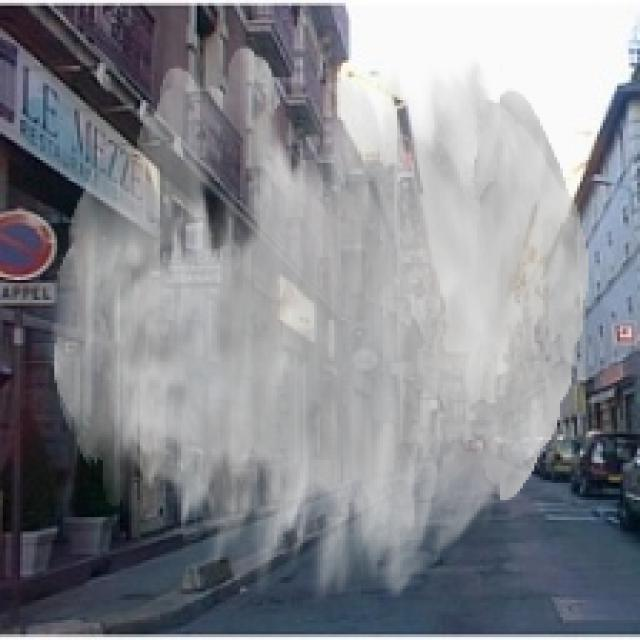Smoke: (51, 46, 588, 603)
